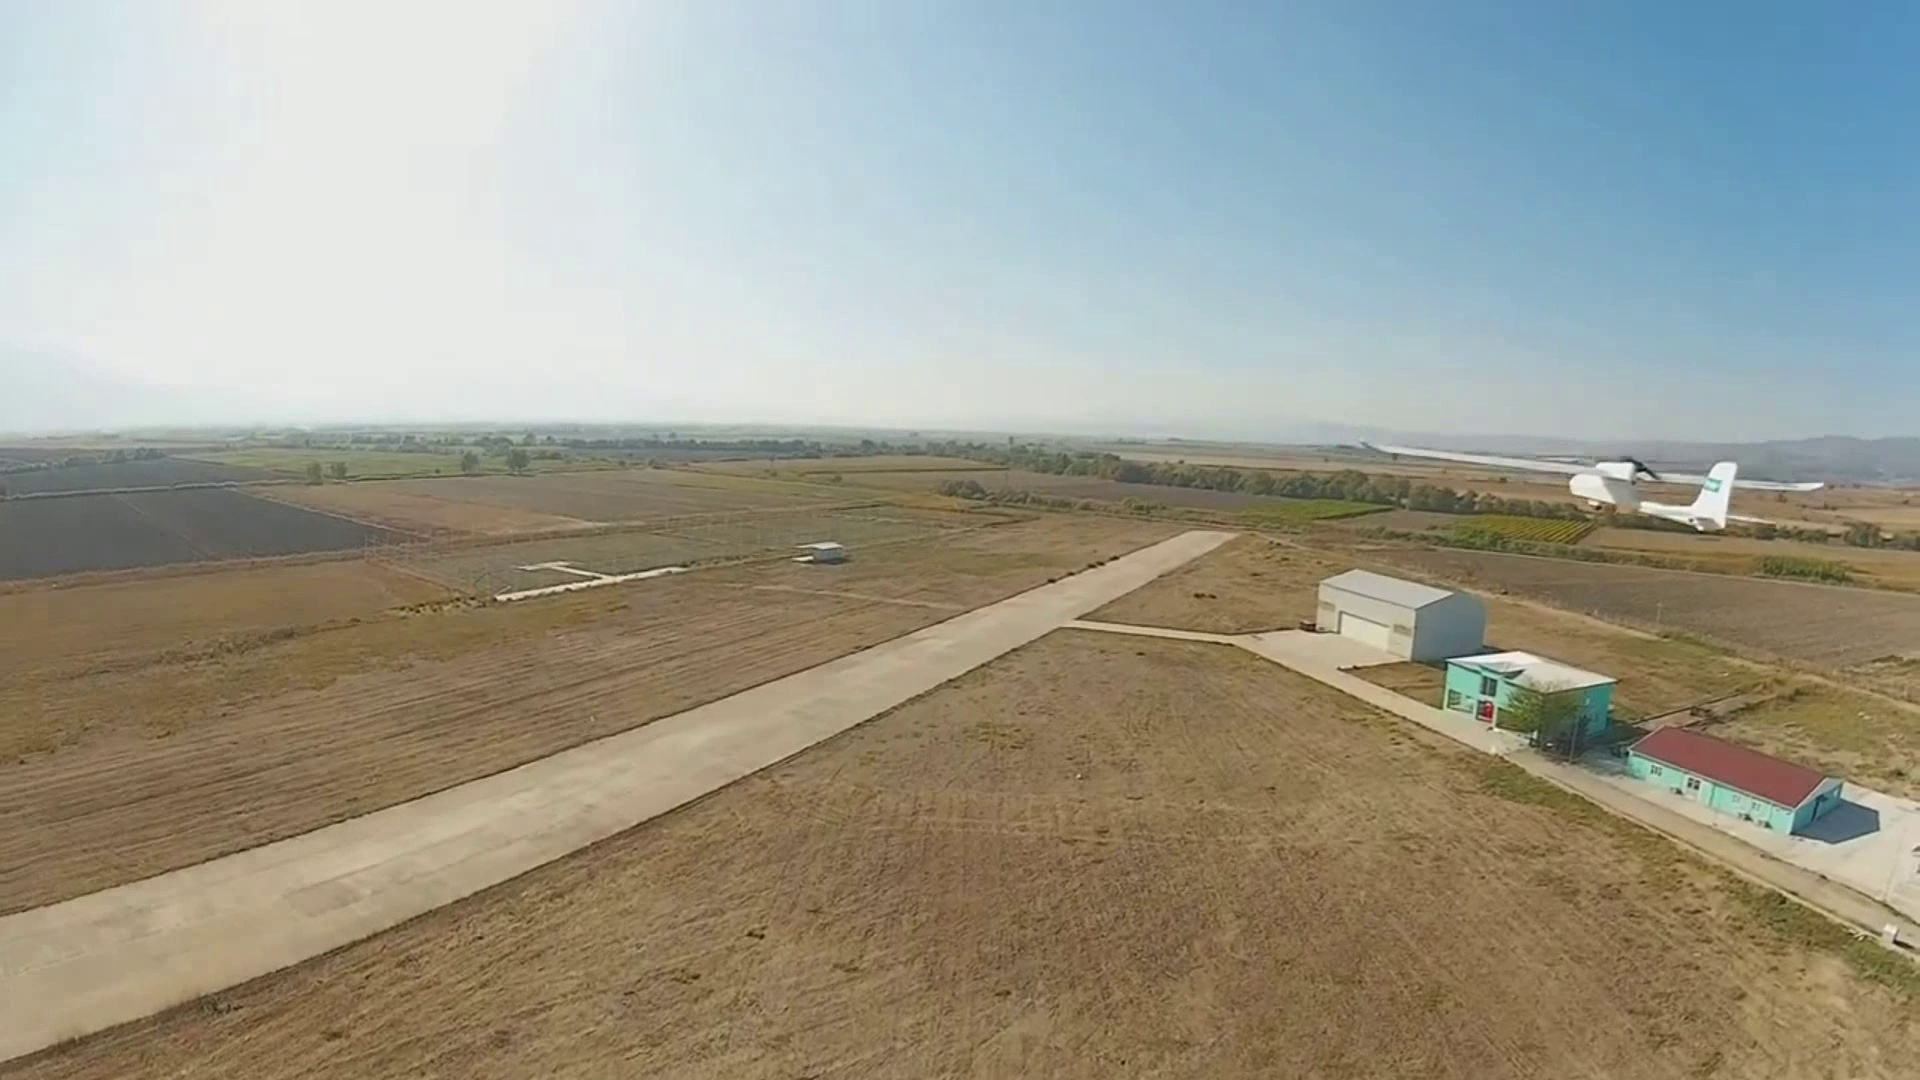airplane: (1357, 437, 1831, 533), (1461, 452, 1833, 535)
